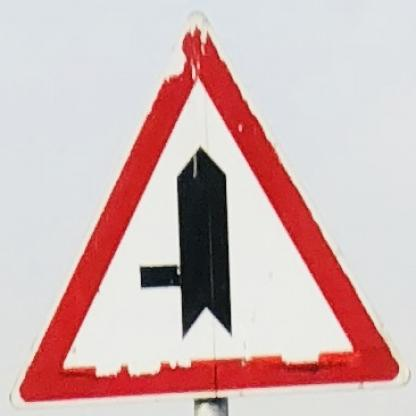Cross Roads: (9, 4, 413, 408)
